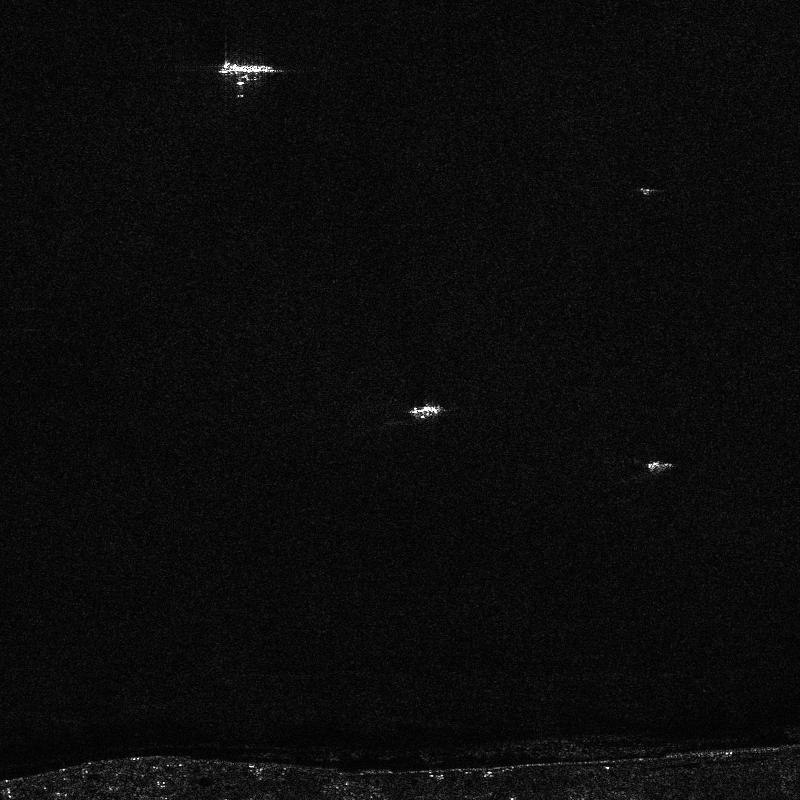ship: (218, 61, 281, 76), (409, 405, 442, 418), (647, 460, 673, 471), (639, 187, 654, 194)
